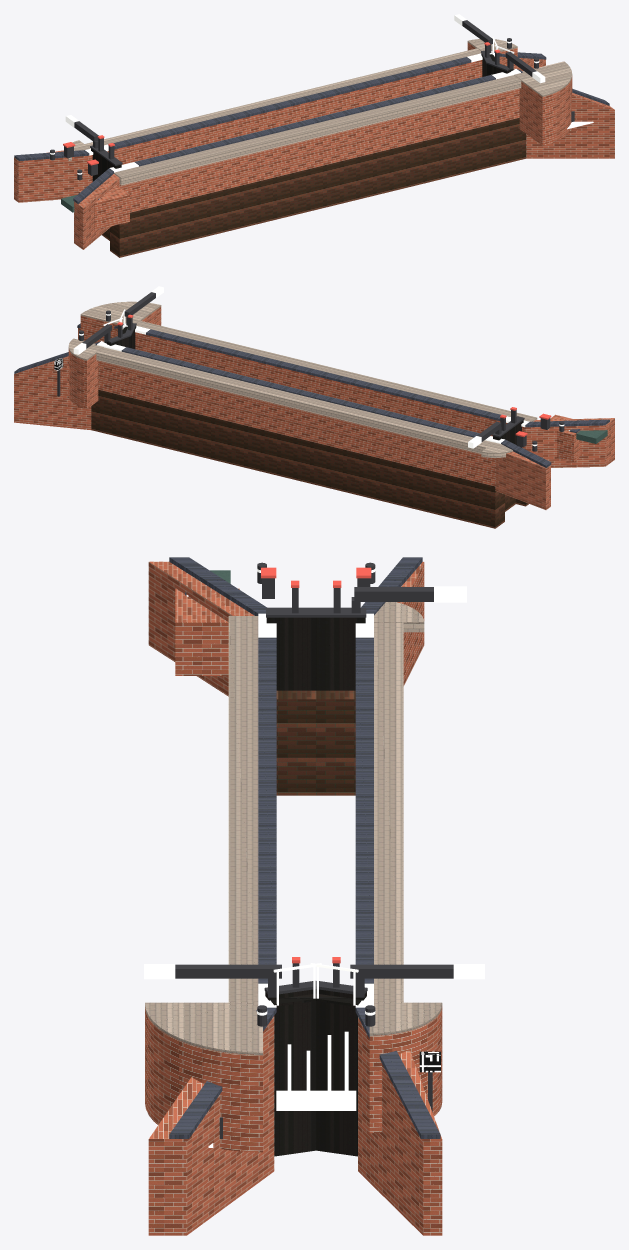
File: lock-47.glb
3 views of the same model, one above another, from view 1: azimuth 30°, elevation 25°; view 2: azimuth 150°, elevation 25°; view 3: azimuth 270°, elevation 25° (orthographic). The views are drawn at different scales.
Visible parts, largest first — view 1: Chamber, ChamberWet, Edge, Coping.001, TopGateCap, Coping, TopGate; view 2: Chamber, ChamberWet, Edge, Coping.001, TopGateCap, Coping, TopGate, WeirWater; view 3: Chamber, Edge, Coping.001, TopGate, ChamberWet, TopGateCap, Coping, Leak.
Part boxes in pixels (x1=…): Chamber: x1=14, y1=42, x2=614, y2=249; ChamberWet: x1=102, y1=117, x2=526, y2=257; Edge: x1=68, y1=39, x2=572, y2=185; Coping.001: x1=14, y1=52, x2=609, y2=203; TopGateCap: x1=50, y1=20, x2=574, y2=180; Coping: x1=50, y1=14, x2=545, y2=174; TopGate: x1=91, y1=53, x2=514, y2=181; Chamber: x1=14, y1=306, x2=614, y2=509; ChamberWet: x1=91, y1=389, x2=528, y2=528; Edge: x1=68, y1=301, x2=537, y2=457; Coping.001: x1=14, y1=323, x2=609, y2=467; TopGateCap: x1=57, y1=292, x2=564, y2=451; Coping: x1=73, y1=286, x2=564, y2=448; TopGate: x1=104, y1=326, x2=523, y2=447; WeirWater: x1=576, y1=430, x2=607, y2=443; Chamber: x1=145, y1=561, x2=442, y2=1235; Edge: x1=145, y1=602, x2=442, y2=1054; Coping.001: x1=169, y1=557, x2=440, y2=1138; TopGate: x1=265, y1=617, x2=366, y2=1156; ChamberWet: x1=276, y1=690, x2=355, y2=795; TopGateCap: x1=175, y1=562, x2=453, y2=1138; Coping: x1=144, y1=568, x2=484, y2=1015; Leak: x1=186, y1=595, x2=356, y2=1147.
Size of the model in its own units: 32.1 by 5.82 by 8.95.
11 materials, 8 textured.
